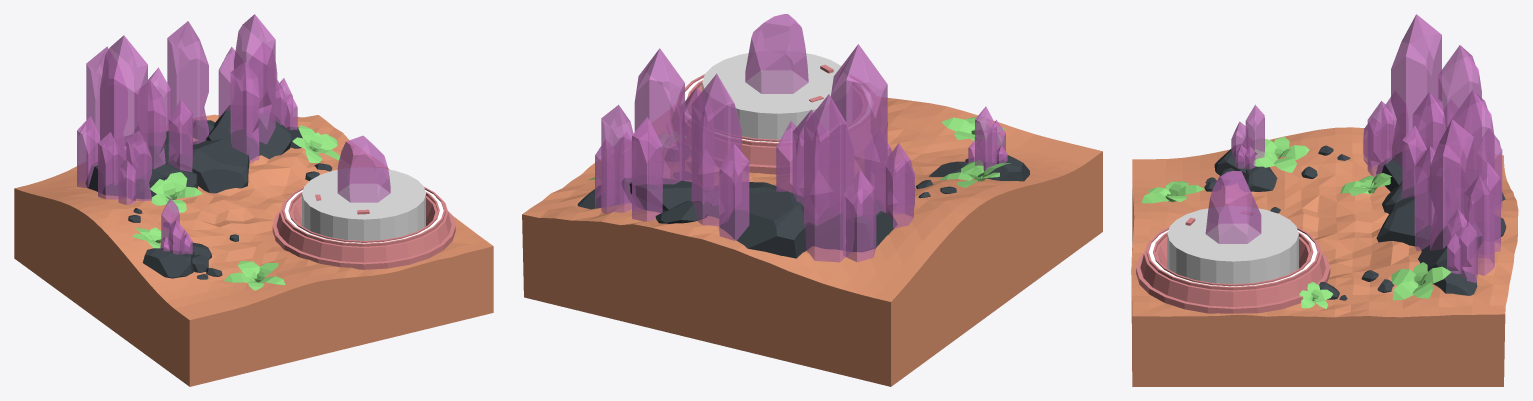
The model's file is vaja_crystals_v2.glb.
3 renders of one model, left to right at view 1: azimuth 30°, elevation 25°; view 2: azimuth 150°, elevation 25°; view 3: azimuth 270°, elevation 25°, orthographic. The views are drawn at different scales.
Parts seen in each view (by area): view 1: Plane, Circle.001, Circle, Cylinder.022, Cylinder, Cylinder.008, Cylinder.021, Roundcube.006, Cylinder.007, Roundcube.003, Cylinder.003, Cylinder.006 (+17 smaller); view 2: Plane, Cylinder.003, Circle.001, Cylinder.022, Cylinder, Cylinder.008, Roundcube.001, Cylinder.021, Cylinder.009, Cylinder.004, Cylinder.001, Cylinder.002 (+15 smaller); view 3: Plane, Circle.001, Circle, Cylinder.022, Cylinder.008, Cylinder.021, Cylinder.009, Cylinder.007, Cylinder.003, Cylinder, Cylinder.014, Roundcube.006 (+20 smaller).
Boxes of the visible parts, x1,y1,x2,y2 form: Plane: [14, 114, 493, 386]; Circle.001: [302, 169, 425, 240]; Circle: [272, 187, 455, 269]; Cylinder.022: [100, 35, 147, 185]; Cylinder: [167, 21, 208, 144]; Cylinder.008: [234, 14, 275, 144]; Cylinder.021: [337, 135, 390, 202]; Roundcube.006: [177, 139, 249, 193]; Cylinder.007: [230, 62, 259, 163]; Roundcube.003: [204, 105, 291, 159]; Cylinder.003: [86, 46, 117, 167]; Cylinder.006: [168, 100, 192, 171]; Plane: [522, 98, 1102, 386]; Cylinder.003: [804, 94, 854, 262]; Circle.001: [702, 53, 841, 139]; Cylinder.022: [831, 44, 887, 214]; Cylinder: [691, 73, 741, 226]; Cylinder.008: [634, 48, 684, 184]; Roundcube.001: [720, 191, 818, 258]; Cylinder.021: [745, 14, 808, 93]; Cylinder.009: [601, 104, 633, 213]; Cylinder.004: [632, 117, 663, 221]; Cylinder.001: [843, 170, 876, 261]; Cylinder.002: [718, 143, 749, 240]; Plane: [1131, 127, 1518, 386]; Circle.001: [1167, 208, 1298, 284]; Circle: [1136, 227, 1330, 313]; Cylinder.022: [1391, 14, 1441, 166]; Cylinder.008: [1430, 119, 1473, 250]; Cylinder.021: [1205, 171, 1261, 243]; Cylinder.009: [1464, 175, 1494, 275]; Cylinder.007: [1414, 146, 1444, 250]; Cylinder.003: [1438, 45, 1481, 129]; Cylinder: [1450, 90, 1494, 181]; Cylinder.014: [1367, 101, 1394, 176]; Roundcube.006: [1376, 194, 1431, 246].
Size of what is drawn, in the model's own units: 8.05 by 5.97 by 8.33.
